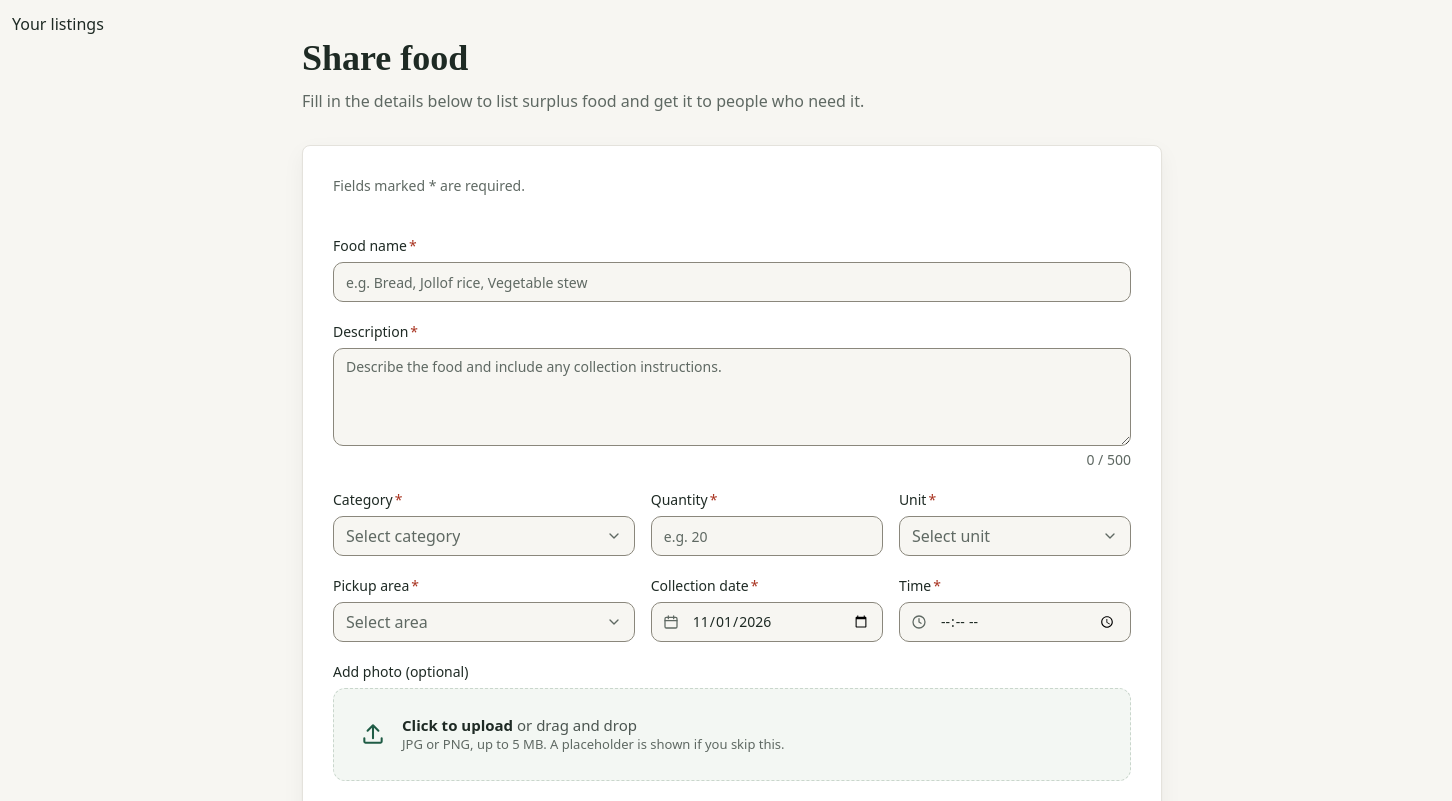
Test: Share food › refuses a quantity below 1
Type "0" into the field labelled "Quantity*" at (767, 536), box [651,516,883,556]
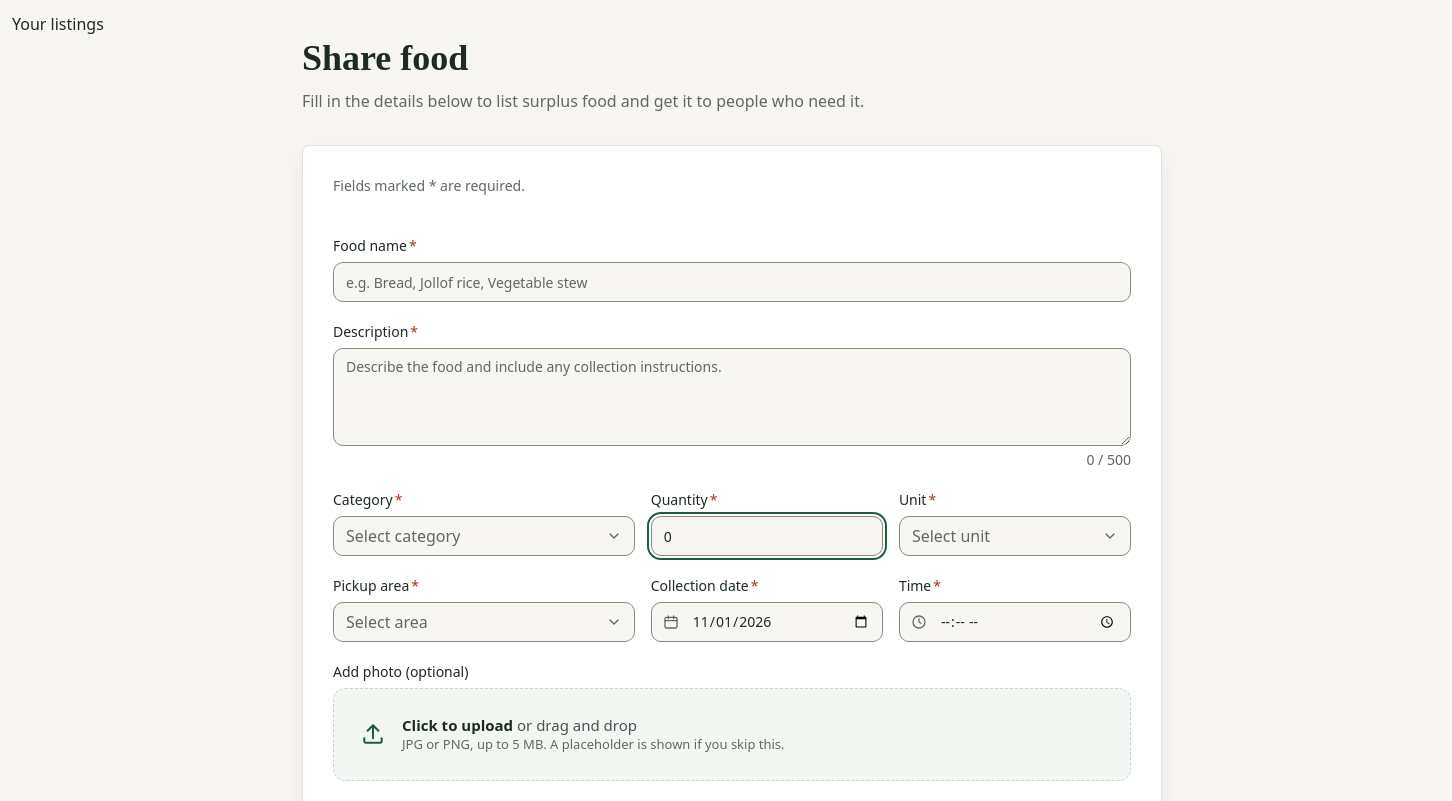
Press Tab
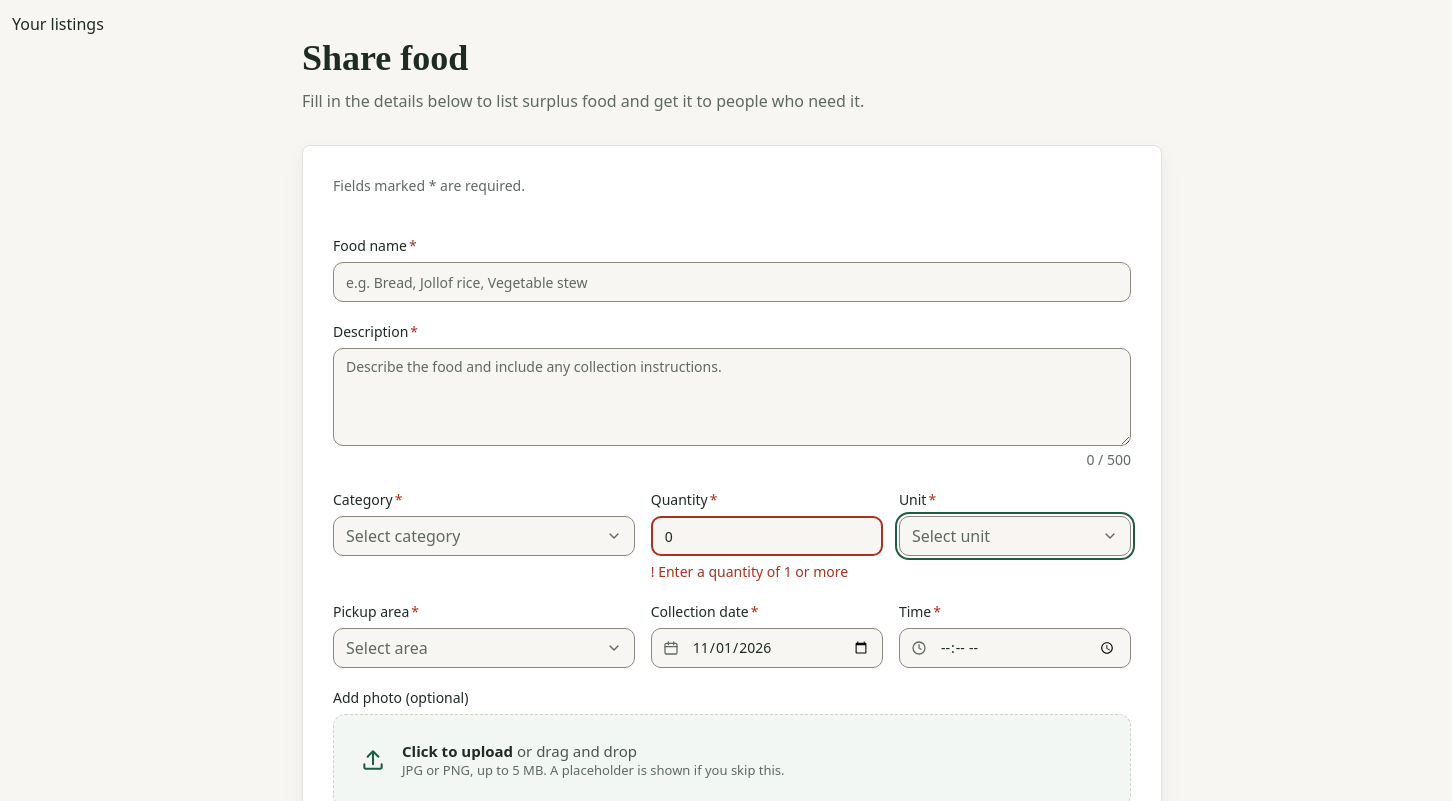
Result: the text "Enter a quantity of 1 or more" is shown at [658,562,848,581]
